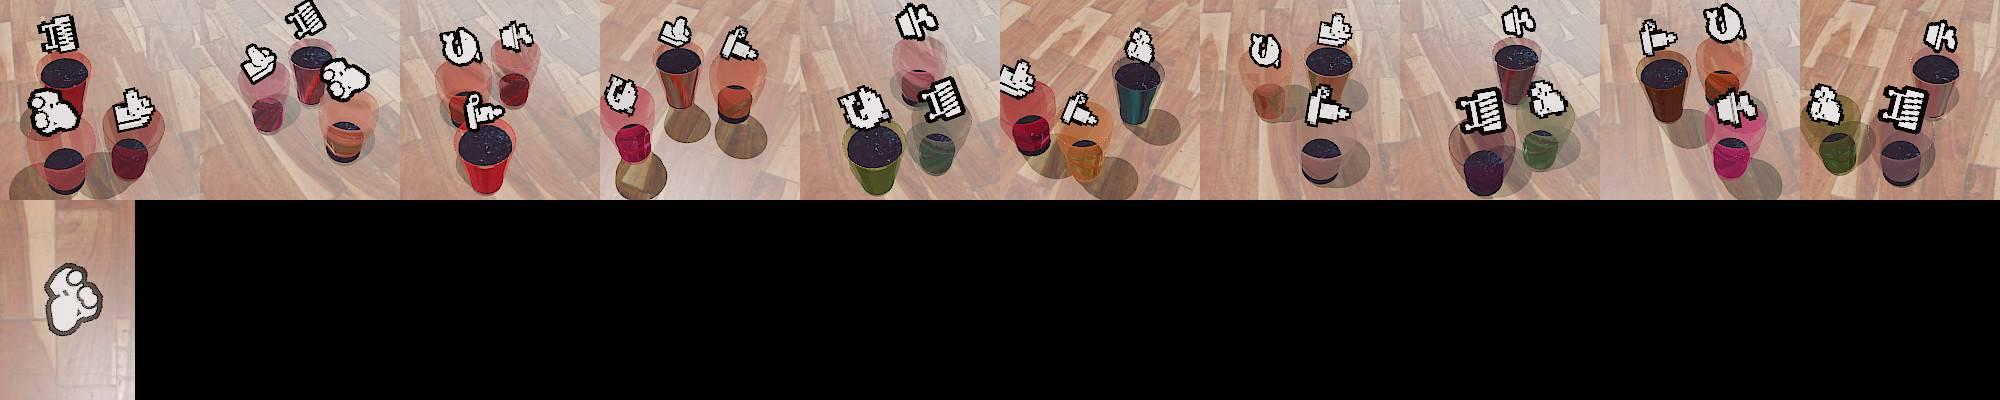icon: (37, 257, 107, 336), (27, 87, 82, 136), (1455, 85, 1508, 135), (1876, 84, 1929, 132), (837, 84, 890, 131), (920, 73, 968, 122), (320, 56, 371, 102), (111, 85, 157, 131), (1305, 83, 1352, 126), (437, 25, 485, 68), (459, 90, 506, 132), (1712, 88, 1759, 127), (37, 14, 79, 56), (894, 1, 939, 41), (1703, 3, 1745, 43), (284, 0, 327, 41), (1528, 79, 1570, 118), (1639, 18, 1680, 57), (1806, 83, 1844, 125), (1060, 89, 1101, 127), (241, 42, 277, 85), (719, 24, 759, 61), (1000, 59, 1037, 98), (603, 73, 639, 113), (1316, 11, 1353, 48), (1247, 31, 1283, 69), (1500, 4, 1537, 39), (497, 19, 536, 54), (657, 15, 694, 50), (1923, 18, 1958, 54), (1125, 25, 1157, 64)
